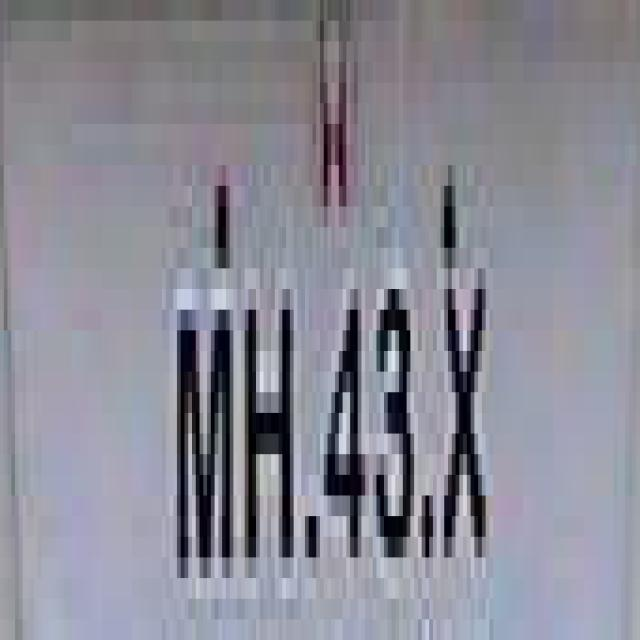license_plate: (34, 41, 640, 620)
